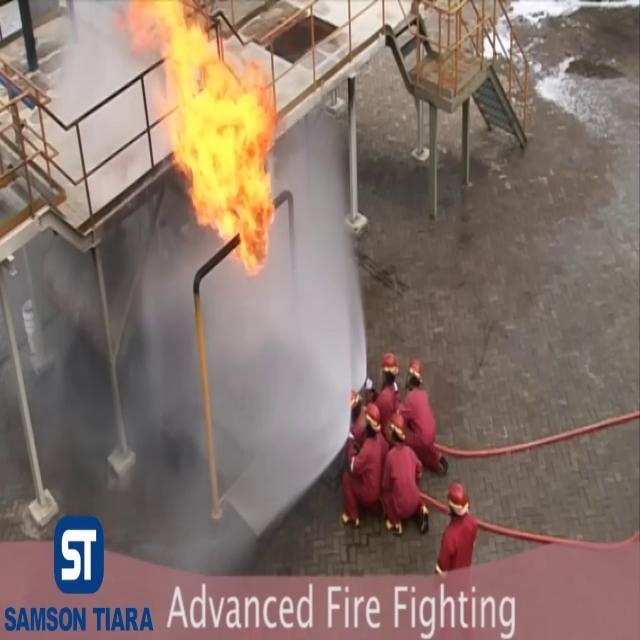Fire: (139, 0, 282, 260)
